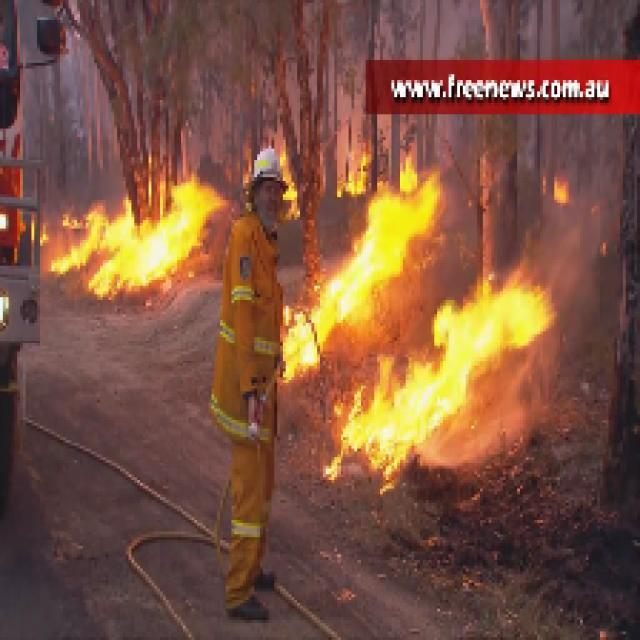Fire: (292, 200, 537, 474), (48, 180, 225, 297)
Smoke: (543, 154, 623, 292)
